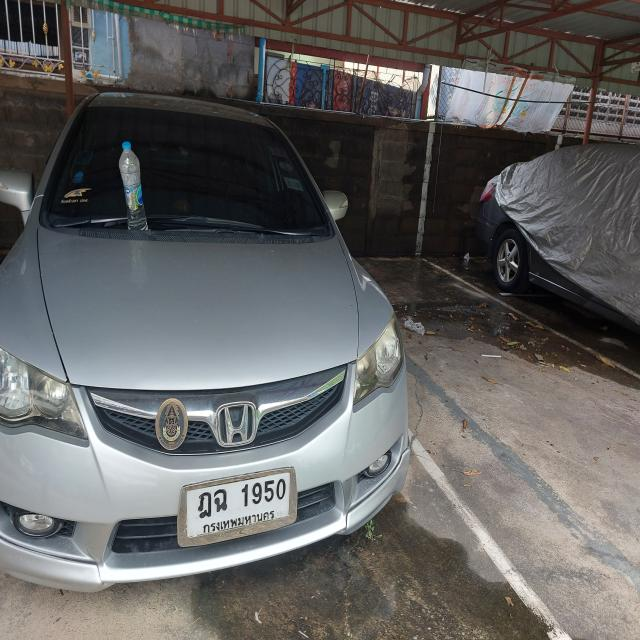license_plate: (176, 464, 300, 551)
